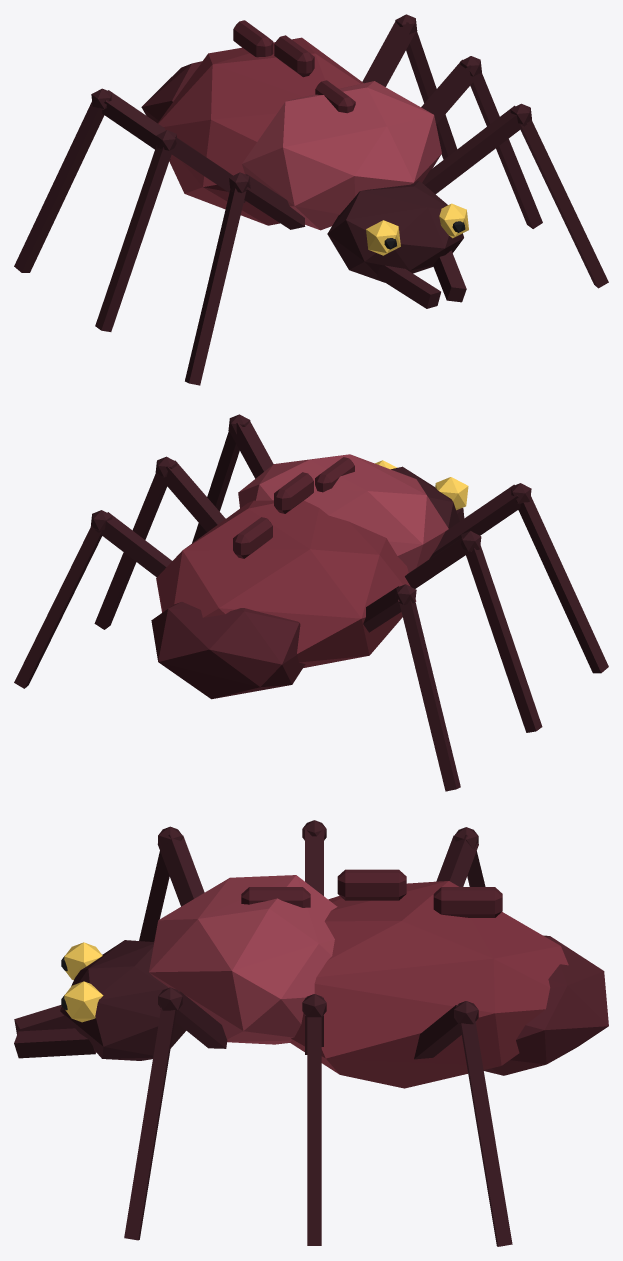
The model's file is ennemi_eclaireur.glb.
3 renders of one model, top to bottom at view 1: azimuth 30°, elevation 25°; view 2: azimuth 150°, elevation 25°; view 3: azimuth 270°, elevation 25°, orthographic. The views are drawn at different scales.
Parts seen in each view (by area): view 1: corps_carapace_claire.002, pattes_a_chitine.002, corps_carapace.002, pattes_b_chitine.002, corps_chitine.002, corps_carapace_sombre.002, corps_oeil.006; view 2: corps_carapace.002, pattes_a_chitine.002, corps_carapace_sombre.002, pattes_b_chitine.002, corps_carapace_claire.002, corps_chitine.002, corps_oeil.006; view 3: corps_carapace.002, corps_carapace_claire.002, pattes_b_chitine.002, corps_carapace_sombre.002, corps_chitine.002, pattes_a_chitine.002, corps_oeil.006.
Boxes of the visible parts, x1=… form: corps_carapace_claire.002: x1=242, y1=81, x2=441, y2=230; pattes_a_chitine.002: x1=14, y1=56, x2=542, y2=385; corps_carapace.002: x1=158, y1=37, x2=363, y2=225; pattes_b_chitine.002: x1=95, y1=14, x2=608, y2=331; corps_chitine.002: x1=327, y1=180, x2=466, y2=308; corps_carapace_sombre.002: x1=141, y1=20, x2=355, y2=123; corps_oeil.006: x1=366, y1=203, x2=468, y2=255; corps_carapace.002: x1=156, y1=500, x2=416, y2=667; pattes_a_chitine.002: x1=94, y1=456, x2=608, y2=791; corps_carapace_sombre.002: x1=151, y1=457, x2=354, y2=699; pattes_b_chitine.002: x1=14, y1=414, x2=542, y2=732; corps_carapace_claire.002: x1=238, y1=454, x2=448, y2=572; corps_chitine.002: x1=391, y1=466, x2=464, y2=528; corps_oeil.006: x1=375, y1=460, x2=468, y2=510; corps_carapace.002: x1=289, y1=881, x2=568, y2=1088; corps_carapace_claire.002: x1=149, y1=875, x2=337, y2=1044; pattes_b_chitine.002: x1=124, y1=820, x2=512, y2=1246; corps_carapace_sombre.002: x1=241, y1=869, x2=608, y2=1075; corps_chitine.002: x1=14, y1=940, x2=186, y2=1060; pattes_a_chitine.002: x1=139, y1=826, x2=485, y2=1245; corps_oeil.006: x1=64, y1=942, x2=103, y2=1022.
Bounding box in the file's own units: 0.7802 × 0.3653 × 0.7741.
